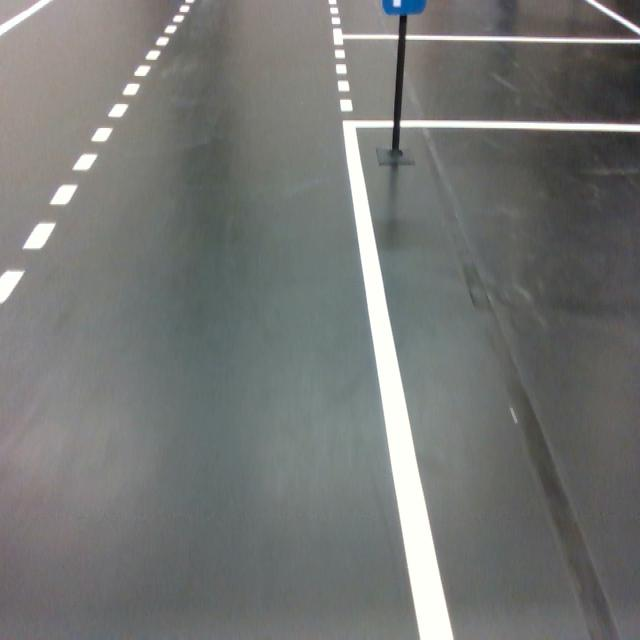parking-sign: (381, 0, 427, 16)
